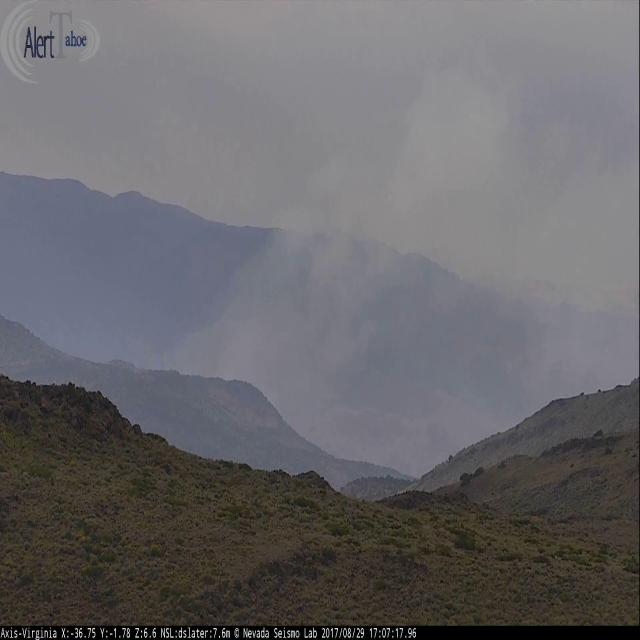smoke: (160, 34, 640, 448)
